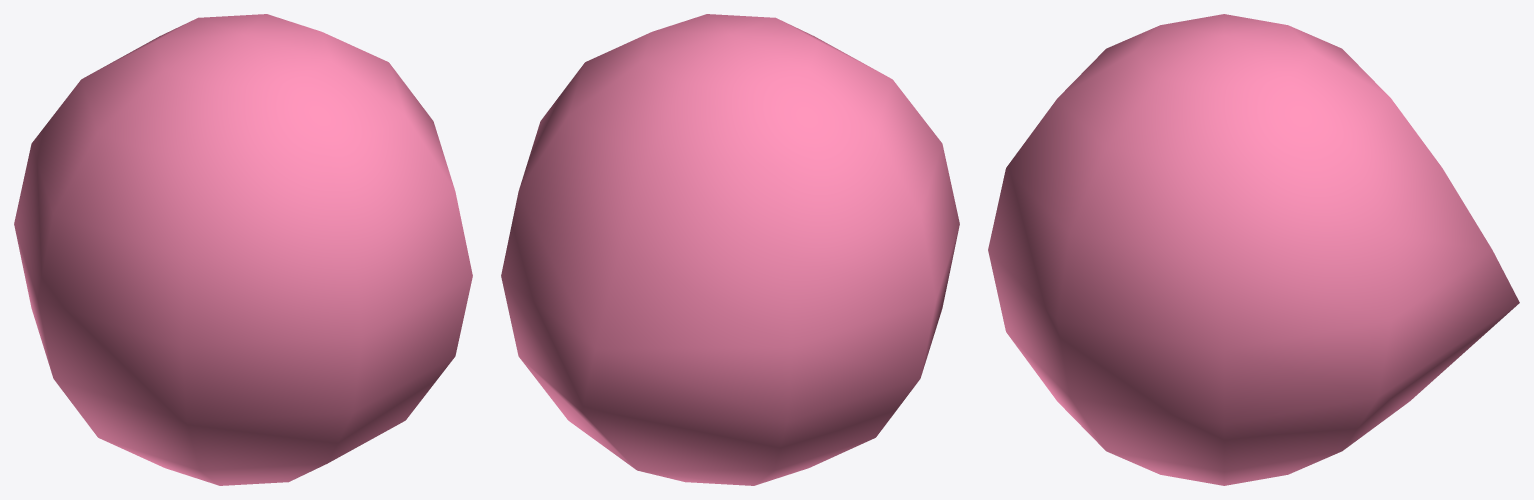
Rendered from bubblegum_pink.fbx.
3 renders of one model, left to right at view 1: azimuth 30°, elevation 25°; view 2: azimuth 150°, elevation 25°; view 3: azimuth 270°, elevation 25°, orthographic.
Parts seen in each view (by area): view 1: bubblegum_pink; view 2: bubblegum_pink; view 3: bubblegum_pink.
Part boxes in pixels (left/top/right/bottom): bubblegum_pink: left=14, top=14, right=472, bottom=485; bubblegum_pink: left=501, top=14, right=959, bottom=485; bubblegum_pink: left=988, top=14, right=1519, bottom=485.
Bounding box in the file's own units: 30.13 × 30.13 × 33.92.
1 material, 1 textured.
